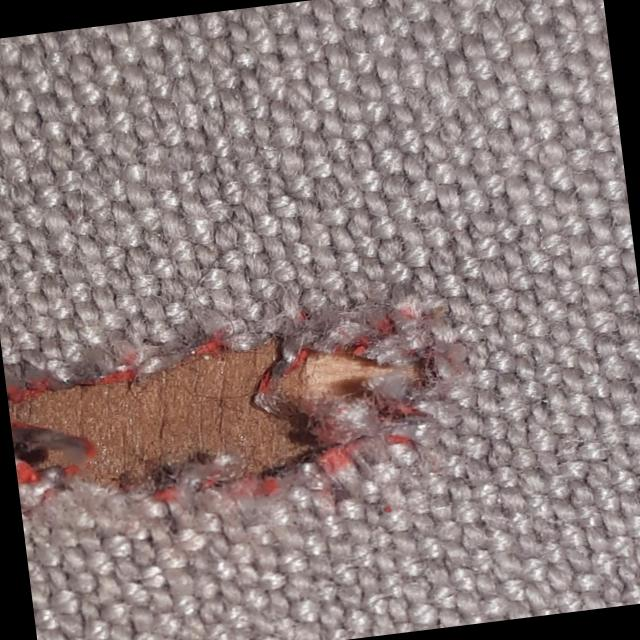hole: (2, 296, 460, 524)
